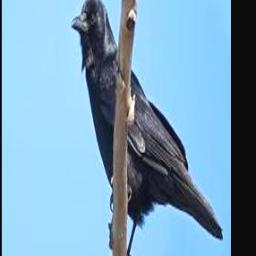Crow: (72, 0, 224, 255)
